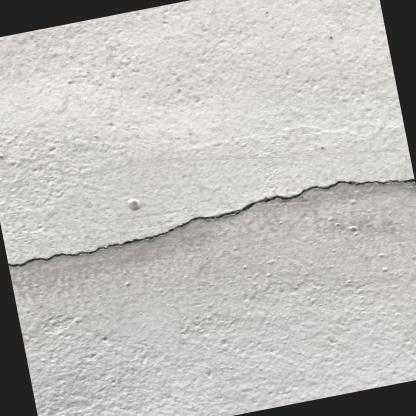crack: (7, 178, 415, 267)
